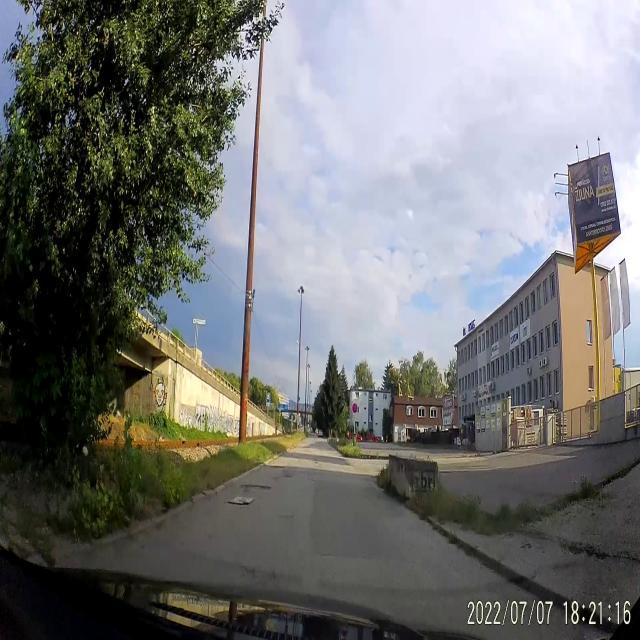Manhole: (226, 496, 256, 506)
Pothole: (238, 481, 274, 494), (236, 561, 256, 582), (270, 570, 277, 583), (283, 472, 292, 481)
